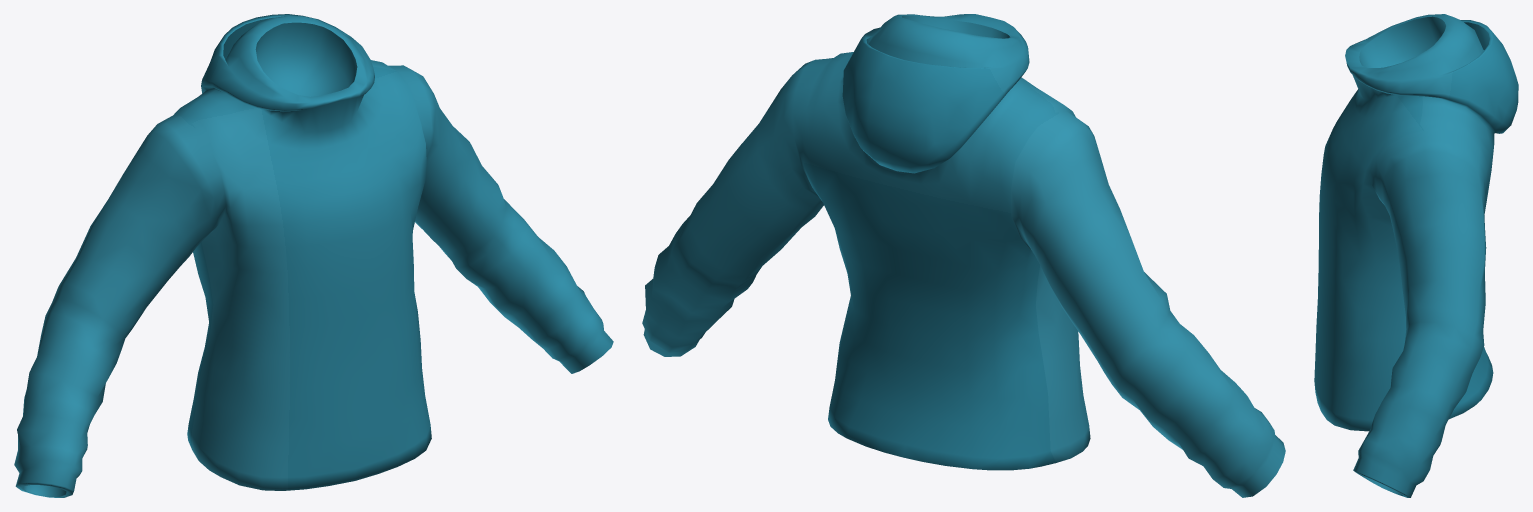
The model's file is cloth02.glb.
The picture shows the model from 3 angles, left to right: view 1: azimuth 30°, elevation 25°; view 2: azimuth 150°, elevation 25°; view 3: azimuth 270°, elevation 25°; orthographic projection. The views are drawn at different scales.
Parts seen in each view (by area): view 1: Top; view 2: Top; view 3: Top.
Boxes of the visible parts, box(x1,y1,x2,y2) form: Top: box(14, 14, 613, 497); Top: box(642, 14, 1285, 497); Top: box(1314, 14, 1518, 497).
Bounding box in the file's own units: 1.92 × 1.27 × 0.6393.
Materials: 1 (1 with a texture image).
